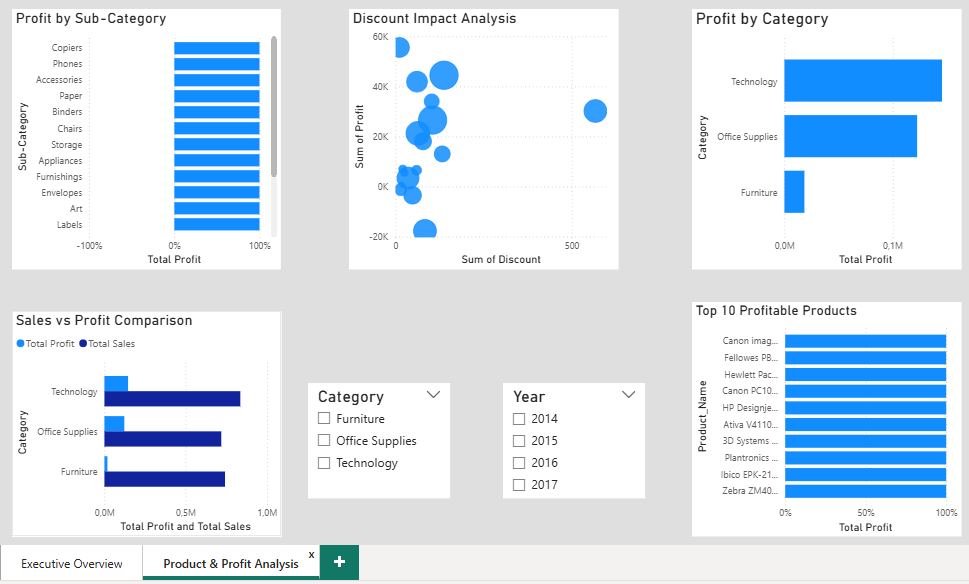

Layout of this report page (visuals, bound fields, positions):
{"tool":"powerbi","page":{"name":"Product & Profit Analysis","canvas":[1280,720],"ordinal":1},"visuals":[{"type":"hundredPercentStackedBarChart","title":"Profit by Sub-Category","fields":{"Y":["Sample - Superstore.Total Profit"],"Category":["Sample - Superstore.Sub-Category"]},"box":[21.8,18.5,352,341],"z":0},{"type":"clusteredBarChart","title":"Sales vs Profit Comparison","fields":{"Y":["Sample - Superstore.Total Profit","Sample - Superstore.Total Sales"],"Category":["Sample - Superstore.Category"]},"box":[21.8,413.2,352.8,295.6],"z":1000},{"type":"scatterChart","title":"Discount Impact Analysis","fields":{"Y":["Sum(Sample - Superstore.Profit)"],"Size":["Sample - Superstore.Total Sales"],"X":["Sum(Sample - Superstore.Discount)"],"Category":["Sample - Superstore.Sub-Category"]},"box":[463.6,18.5,352.8,341],"z":2000},{"type":"hundredPercentStackedBarChart","title":"Top 10 Profitable Products","fields":{"Category":["Sample - Superstore.Product_Name"],"Y":["Sample - Superstore.Total Profit"]},"box":[912.1,401.5,352.8,307.4],"z":3000},{"type":"slicer","fields":{"Values":["Sample - Superstore.Year"]},"box":[665.2,507.3,186.5,151.2],"z":4000},{"type":"slicer","fields":{"Values":["Sample - Superstore.Category"]},"box":[409.9,507.3,186,151.2],"z":5000},{"type":"clusteredBarChart","title":"Profit by Category","fields":{"Y":["Sample - Superstore.Total Profit"],"Category":["Sample - Superstore.Category"]},"box":[912.1,18.5,352.8,341],"z":6000}]}

Visuals, with their boxes on the page's 1280x720 design canvas (x1, y1, x2, y2). These are canvas units, not pixel positions in the 969x584 screenshot, which may show the page scaled, cropped or inside an application window:
"Profit by Sub-Category" hundredPercentStackedBarChart: x1=22 y1=18 x2=374 y2=360
"Sales vs Profit Comparison" clusteredBarChart: x1=22 y1=413 x2=375 y2=709
"Discount Impact Analysis" scatterChart: x1=464 y1=18 x2=816 y2=360
"Top 10 Profitable Products" hundredPercentStackedBarChart: x1=912 y1=402 x2=1265 y2=709
slicer - Sample - Superstore.Year: x1=665 y1=507 x2=852 y2=658
slicer - Sample - Superstore.Category: x1=410 y1=507 x2=596 y2=658
"Profit by Category" clusteredBarChart: x1=912 y1=18 x2=1265 y2=360
